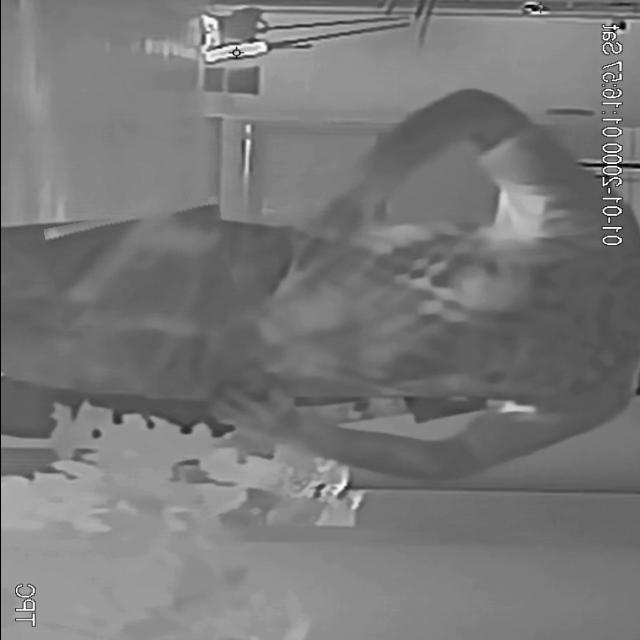Weapon: (47, 204, 232, 322)
